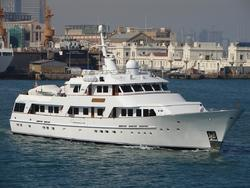yacht: (8, 34, 243, 148)
